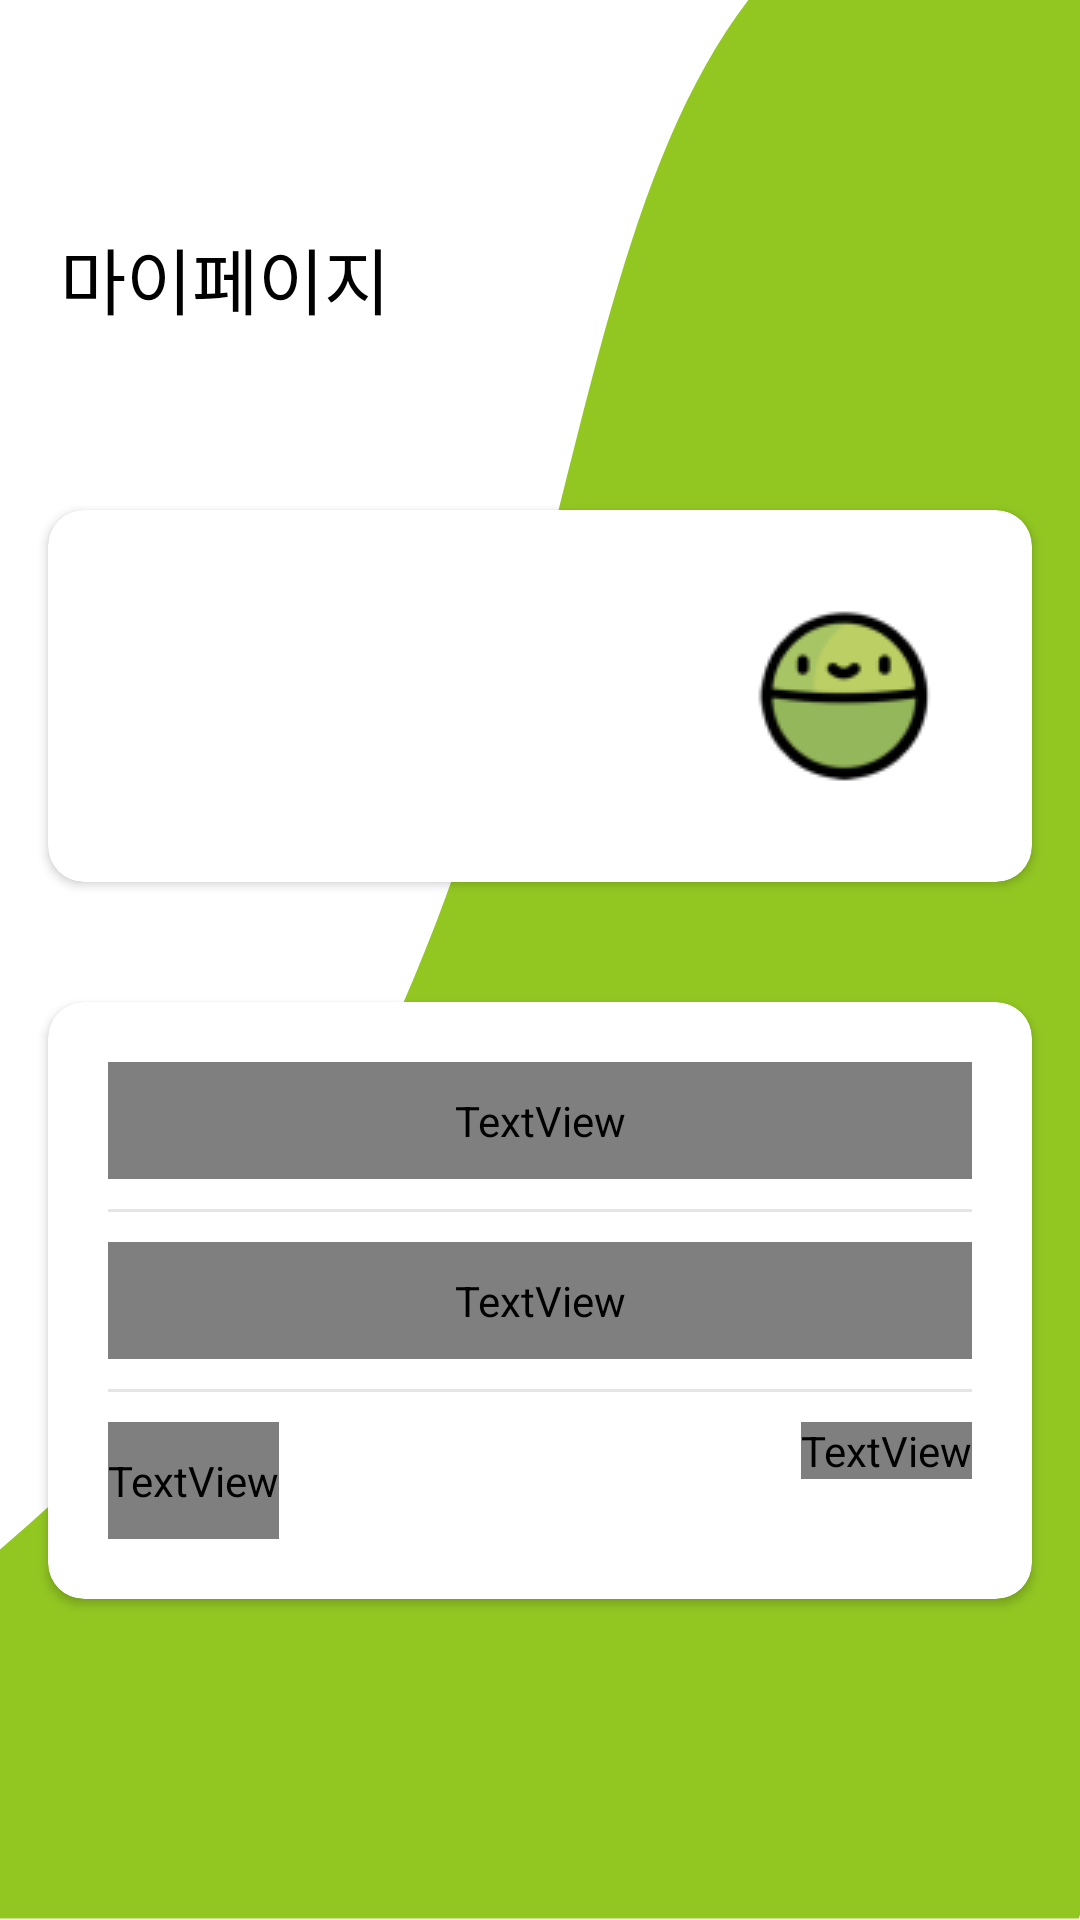

Icons on this 1080 x 1920 Android screen, each with the point to tap as [x,y]:
pea: [843,696]
